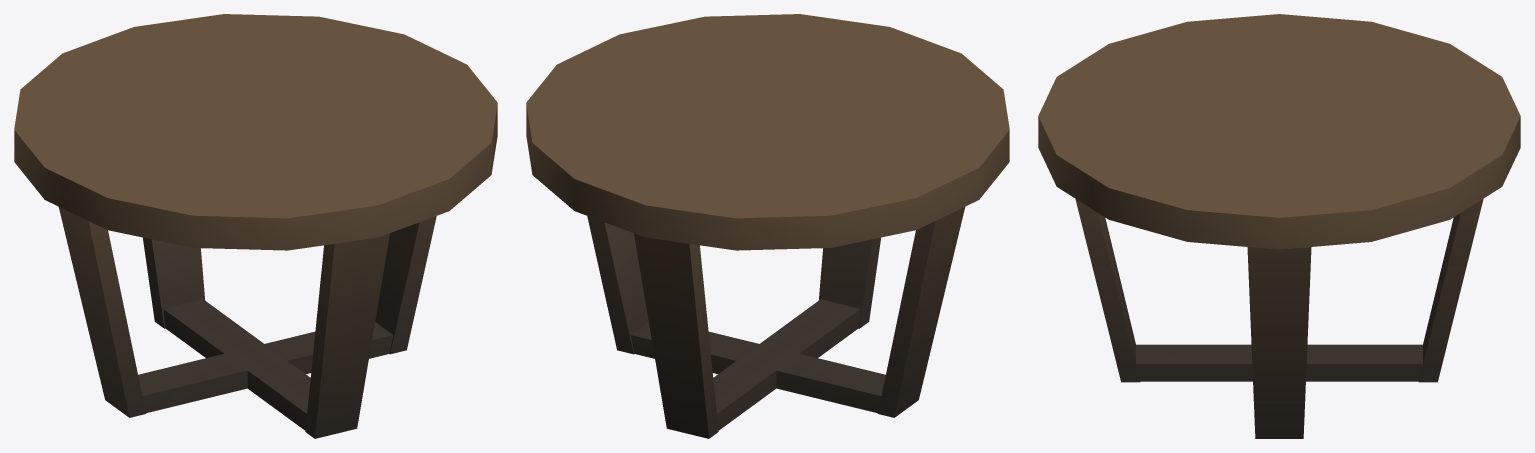
File: CoffeeTable_Round.fbx
3 renders of one model, left to right at view 1: azimuth 30°, elevation 25°; view 2: azimuth 150°, elevation 25°; view 3: azimuth 270°, elevation 25°, orthographic.
Parts seen in each view (by area): view 1: CoffeeTable_Round; view 2: CoffeeTable_Round; view 3: CoffeeTable_Round.
Part boxes in pixels (x1,y1,x2,y2): CoffeeTable_Round: (14, 14, 497, 438); CoffeeTable_Round: (526, 14, 1009, 438); CoffeeTable_Round: (1038, 14, 1520, 438).
Size of the model in its own units: 80 by 46.87 by 80.
